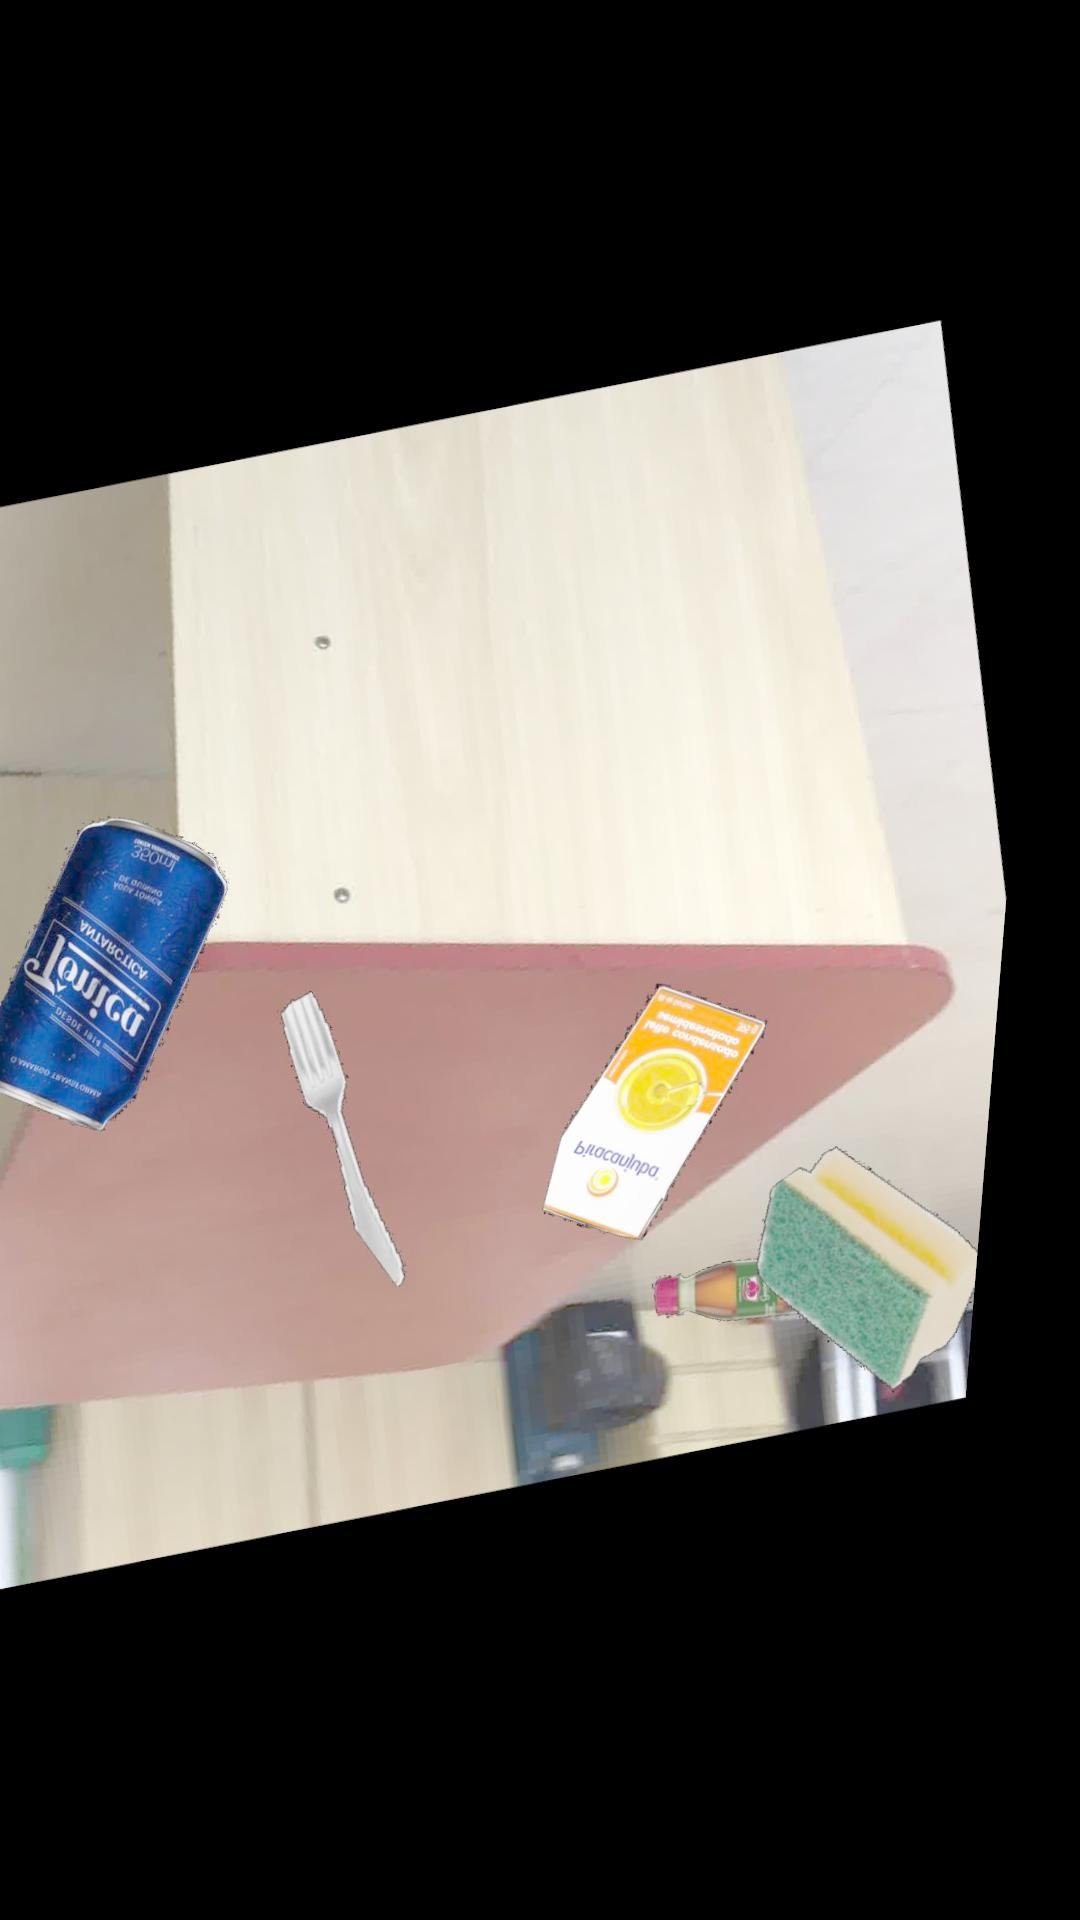fork: (299, 989, 429, 1284)
guarana: (678, 1257, 823, 1320)
sponge: (779, 1145, 1000, 1389)
tonic: (1, 815, 245, 1127)
